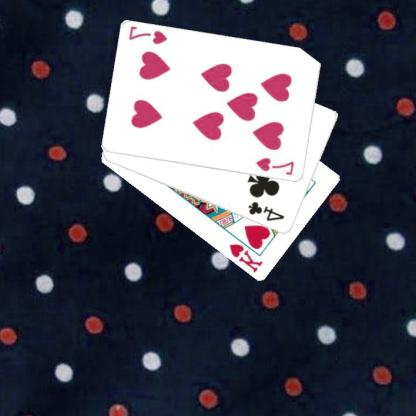4C: (247, 199, 288, 223)
7H: (255, 155, 297, 177), (128, 24, 170, 46)
KH: (228, 242, 266, 274)
